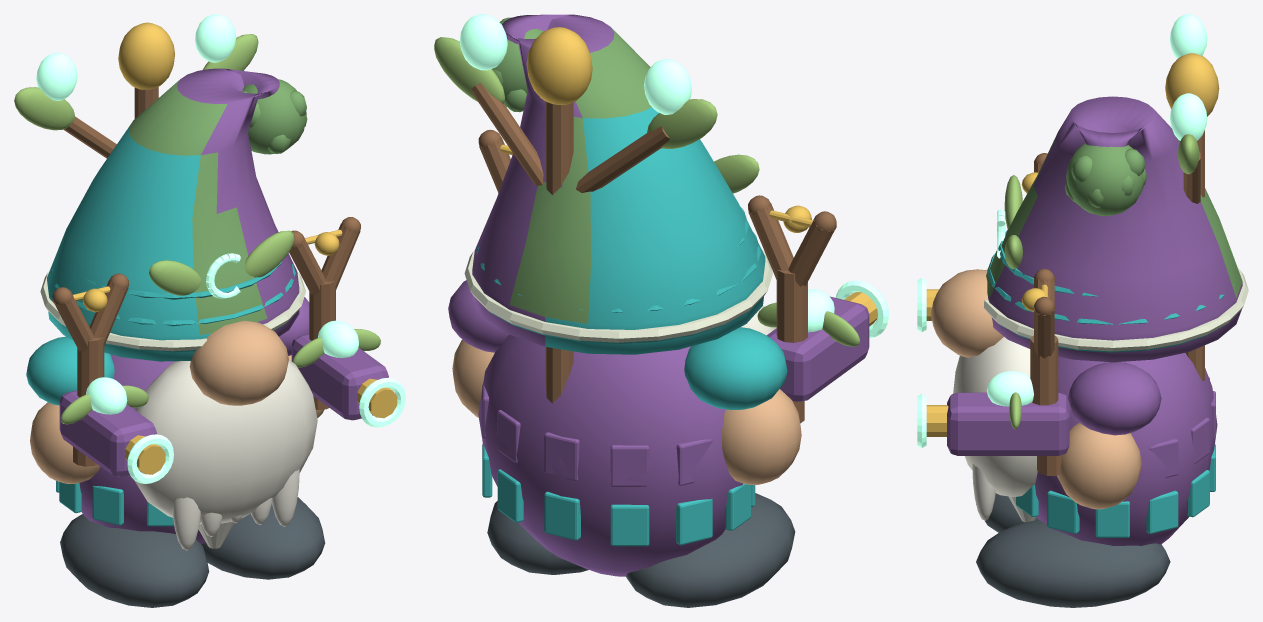
File: gnome-fusion-multi-necro-sprout.glb
The picture shows the model from 3 angles, left to right: view 1: azimuth 30°, elevation 25°; view 2: azimuth 150°, elevation 25°; view 3: azimuth 270°, elevation 25°; orthographic projection. The views are drawn at different scales.
Parts seen in each view (by area): view 1: gnome-fusion-multi-necro-sprout; view 2: gnome-fusion-multi-necro-sprout; view 3: gnome-fusion-multi-necro-sprout.
Boxes of the visible parts, box(x1,y1,x2,y2) form: gnome-fusion-multi-necro-sprout: box(14, 14, 405, 607); gnome-fusion-multi-necro-sprout: box(434, 14, 888, 607); gnome-fusion-multi-necro-sprout: box(917, 14, 1248, 607).
Size of the model in its own units: 1.05 by 1.59 by 0.92.
